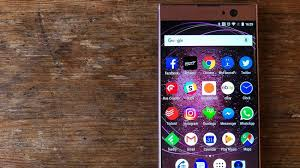sony: (151, 1, 262, 168)
